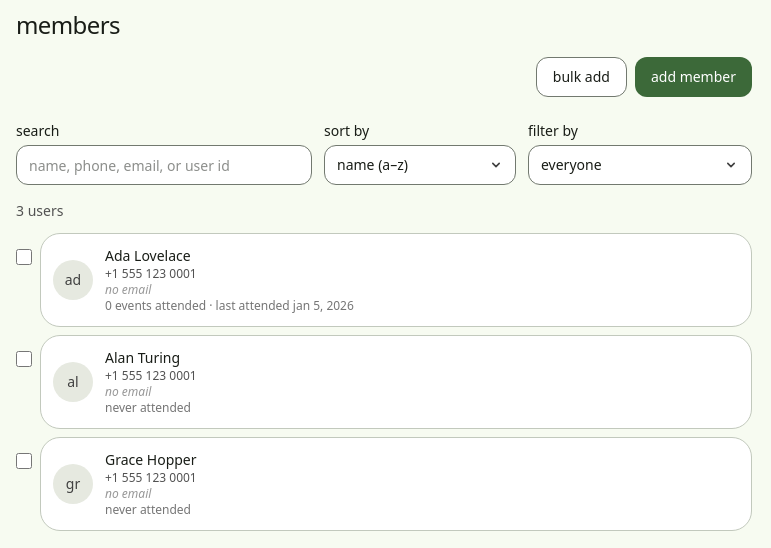
it: MembersScreen › filters to users who never attended and are not in whatsapp
What coordinates should you click on to do the following:
click the button "everyone"
I would click on:
 (640, 165)
Its box is [528,145,752,185].
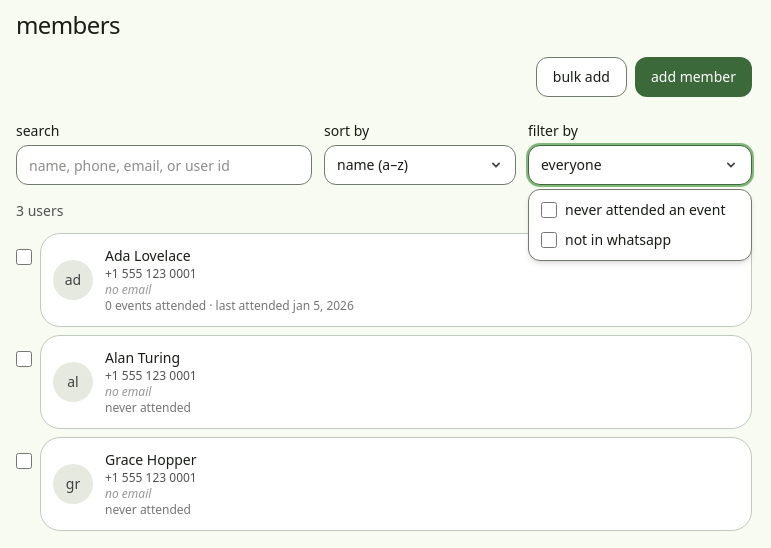
What coordinates should you click on to do the following:
click the checkbox labelled "never attended an event"
I would click on:
 (549, 210)
Its box is [541,202,557,218].
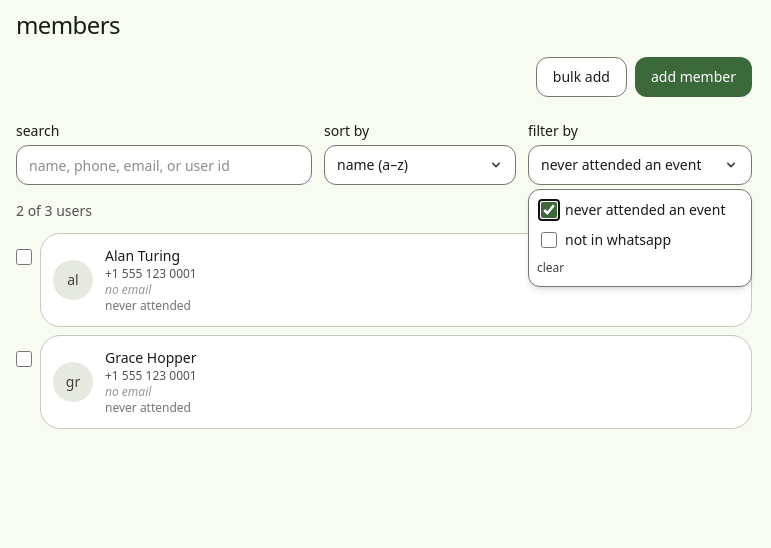
Now the text "2 of 3 users" is shown, box [16,201,92,220]
What coordinates should you click on to do the following:
click the checkbox labelled "not in whatsapp"
I would click on:
 (549, 240)
Its box is [541,232,557,248].
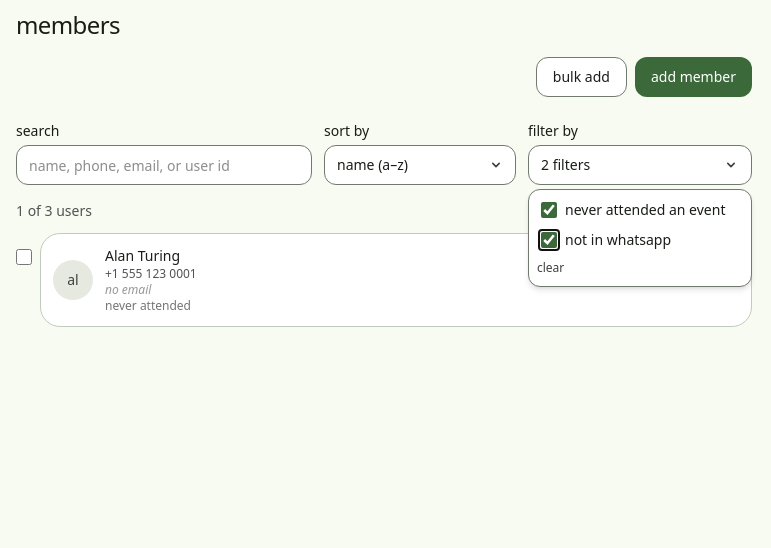
Expected: the text "Alan Turing" is shown, [105,246,180,265]
Now the text "1 of 3 users" is shown, box [16,201,92,220]
